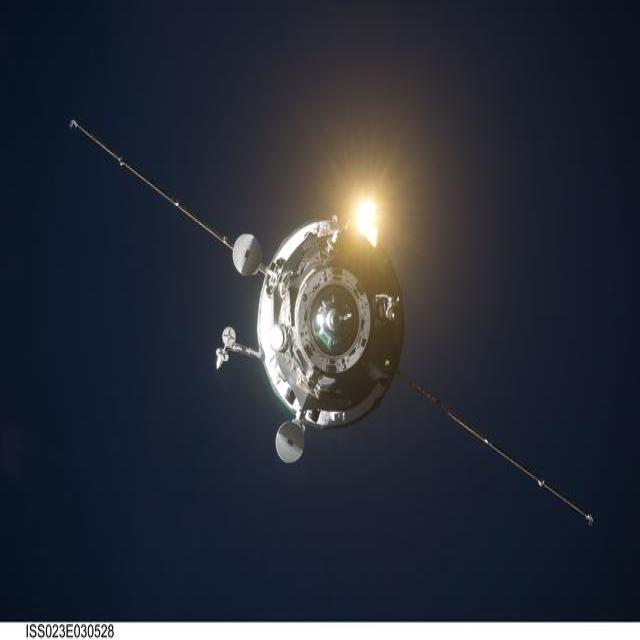medium_debris: (70, 121, 592, 524)
